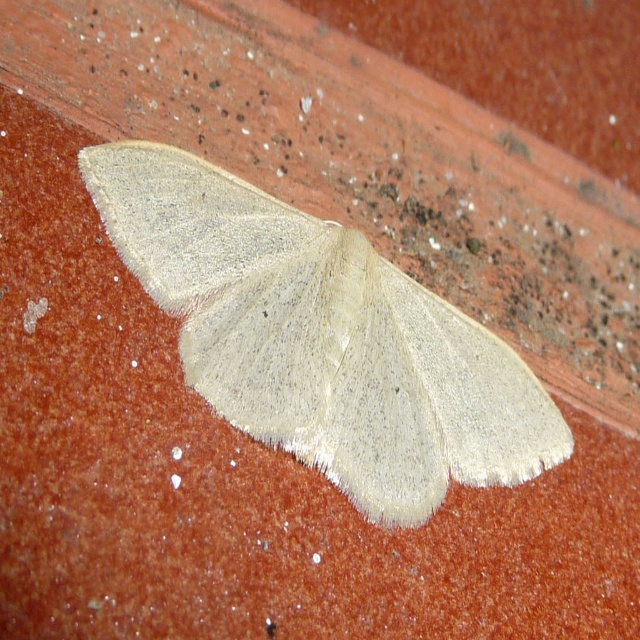Moths and butterflies: (74, 139, 574, 531)
